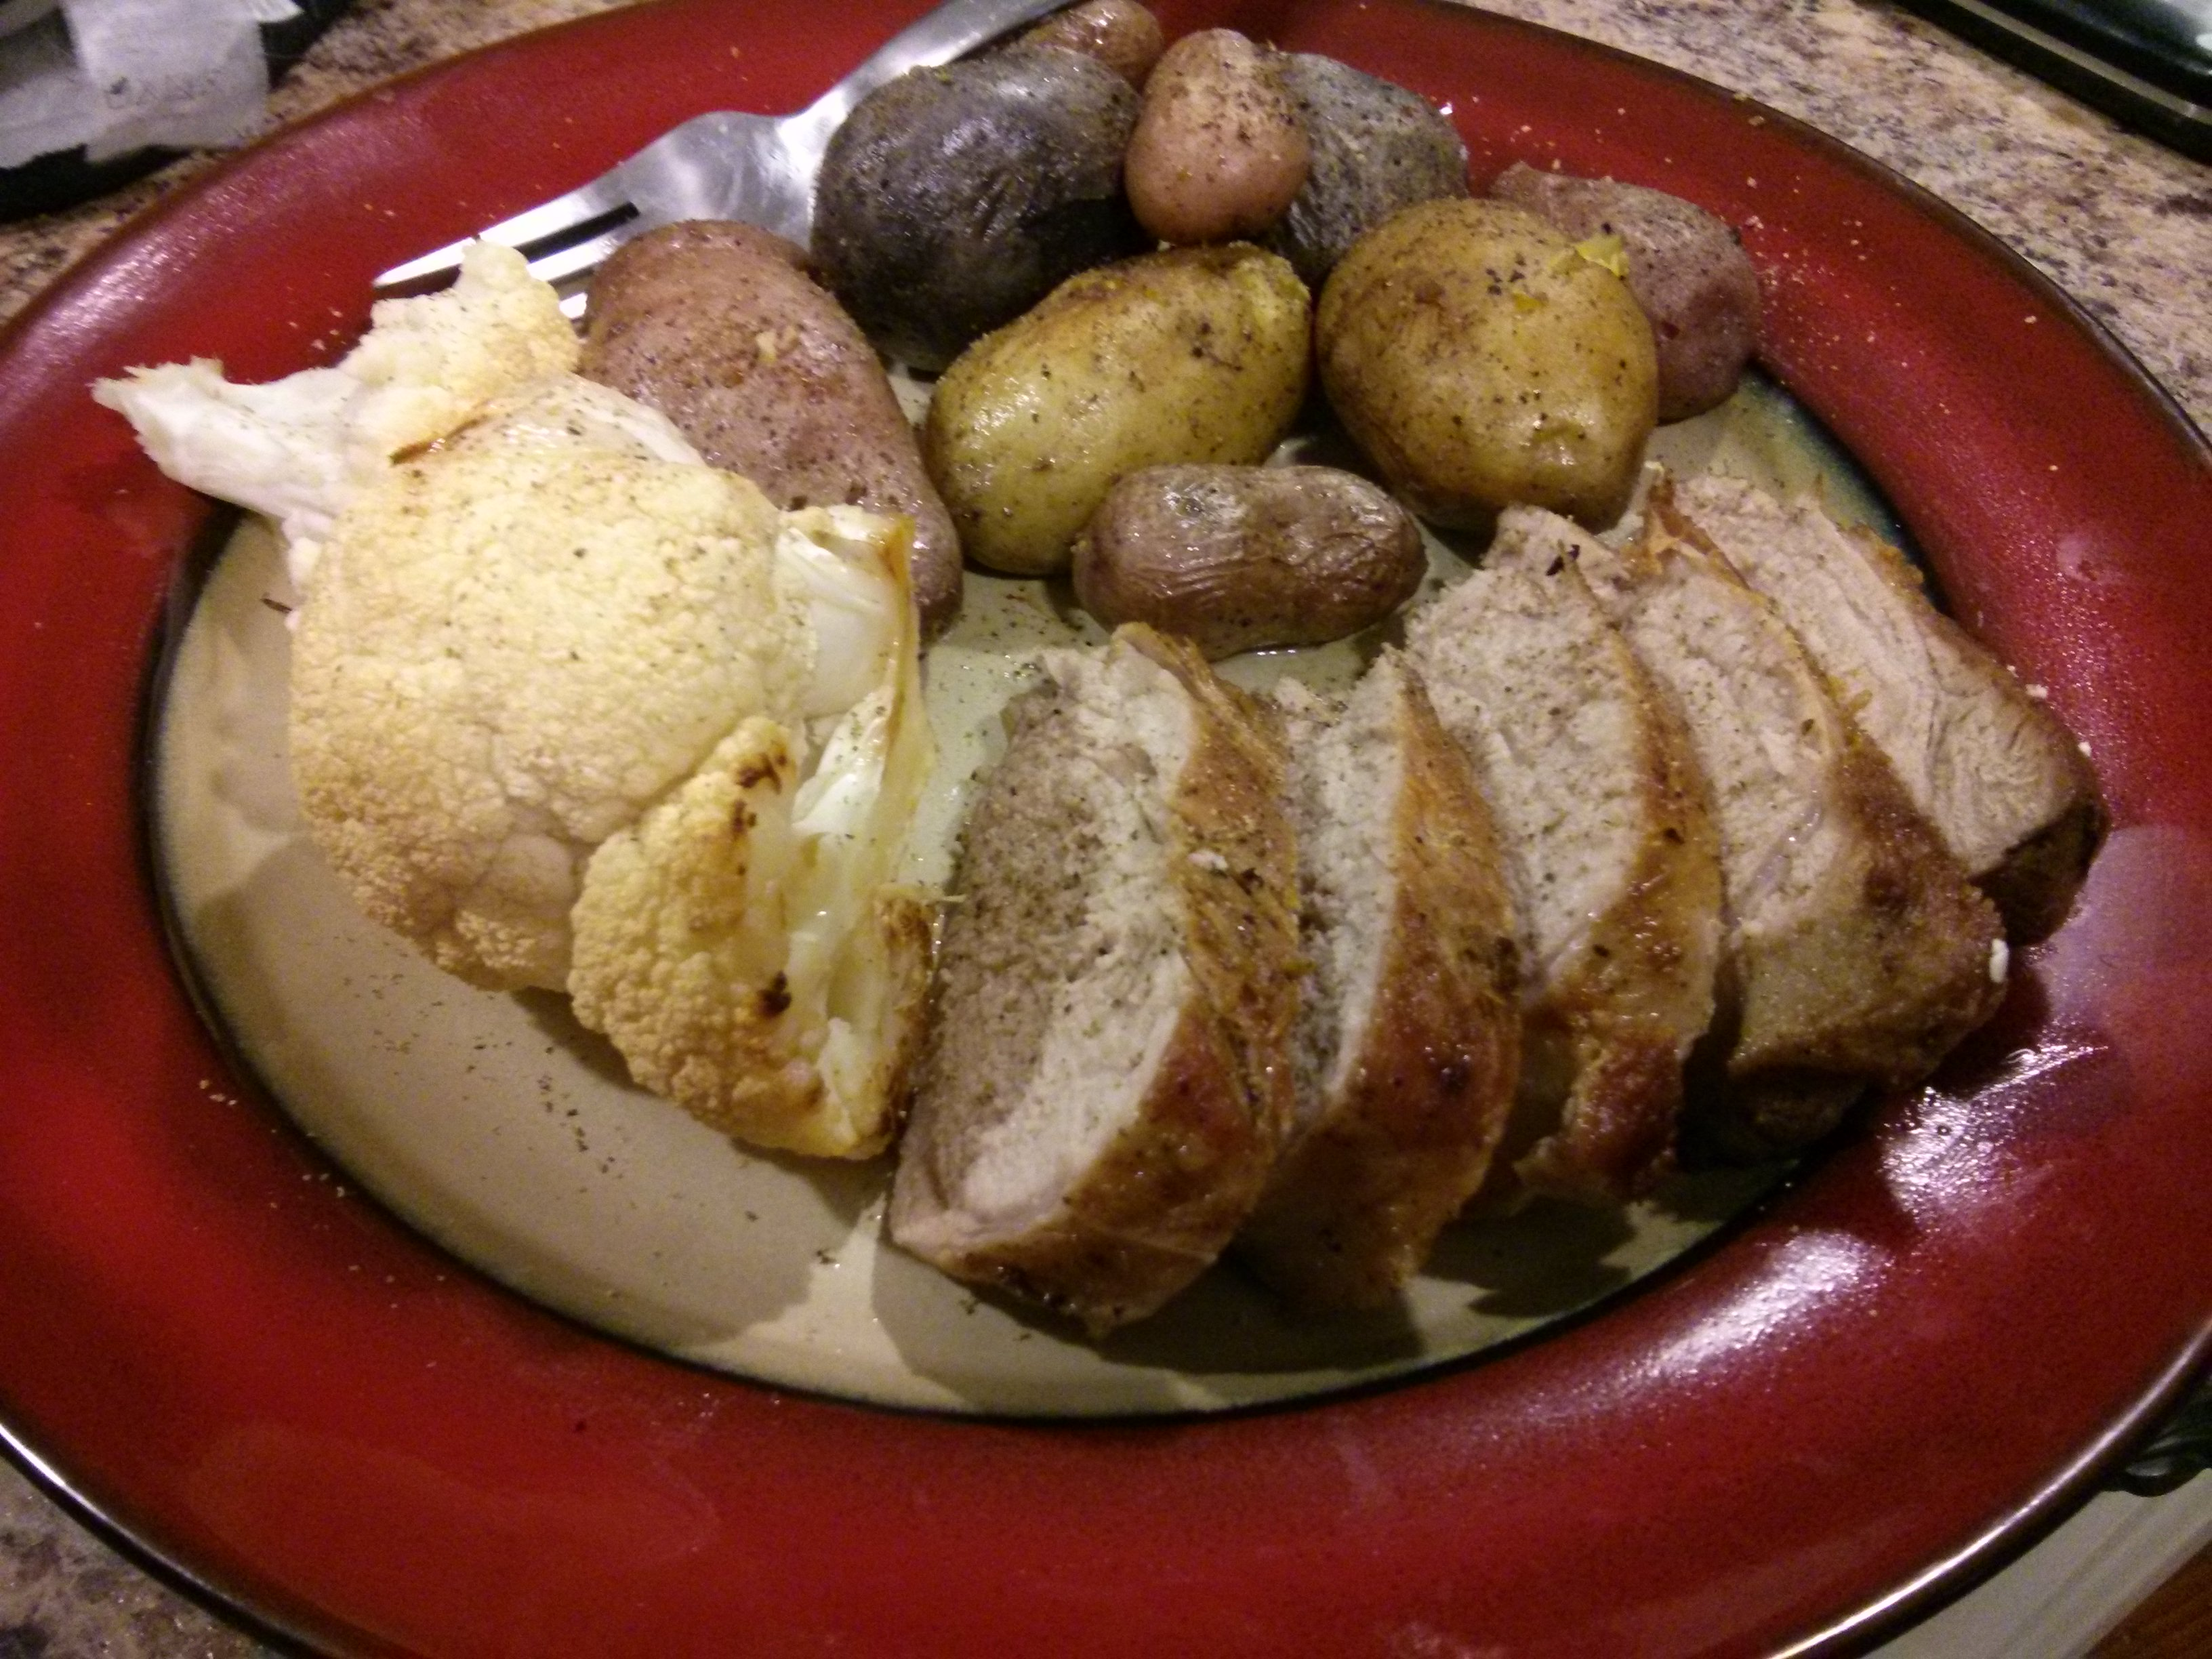boiled potatoes: (975, 225, 1320, 593), (1366, 220, 1648, 479)
slice of bread: (1010, 683, 1965, 1079)
